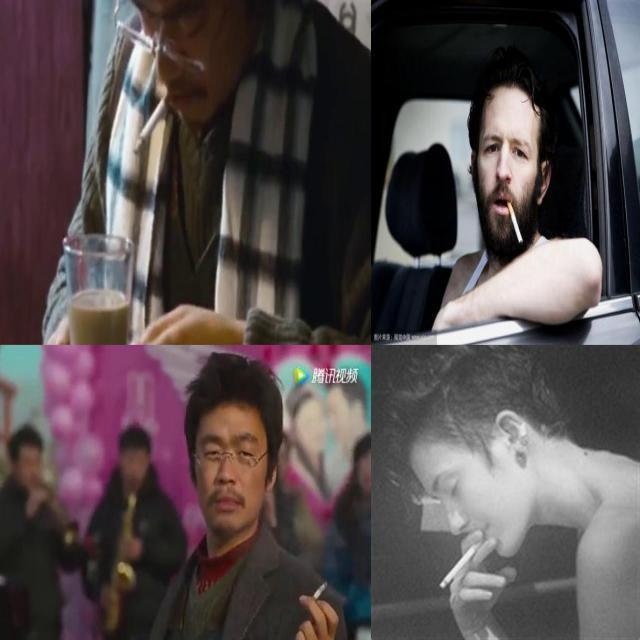cigarette: (436, 533, 492, 591), (132, 89, 176, 155), (504, 197, 526, 247), (310, 582, 328, 602)
